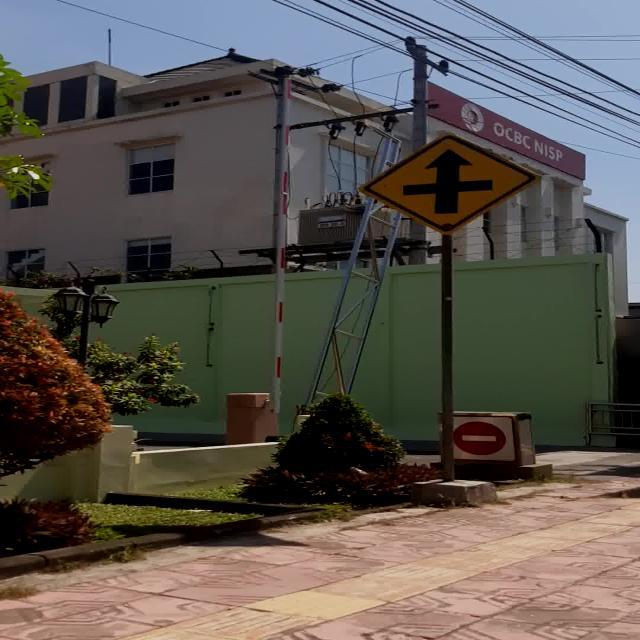Persimpangan 3 Prioritas: (358, 131, 538, 235)
